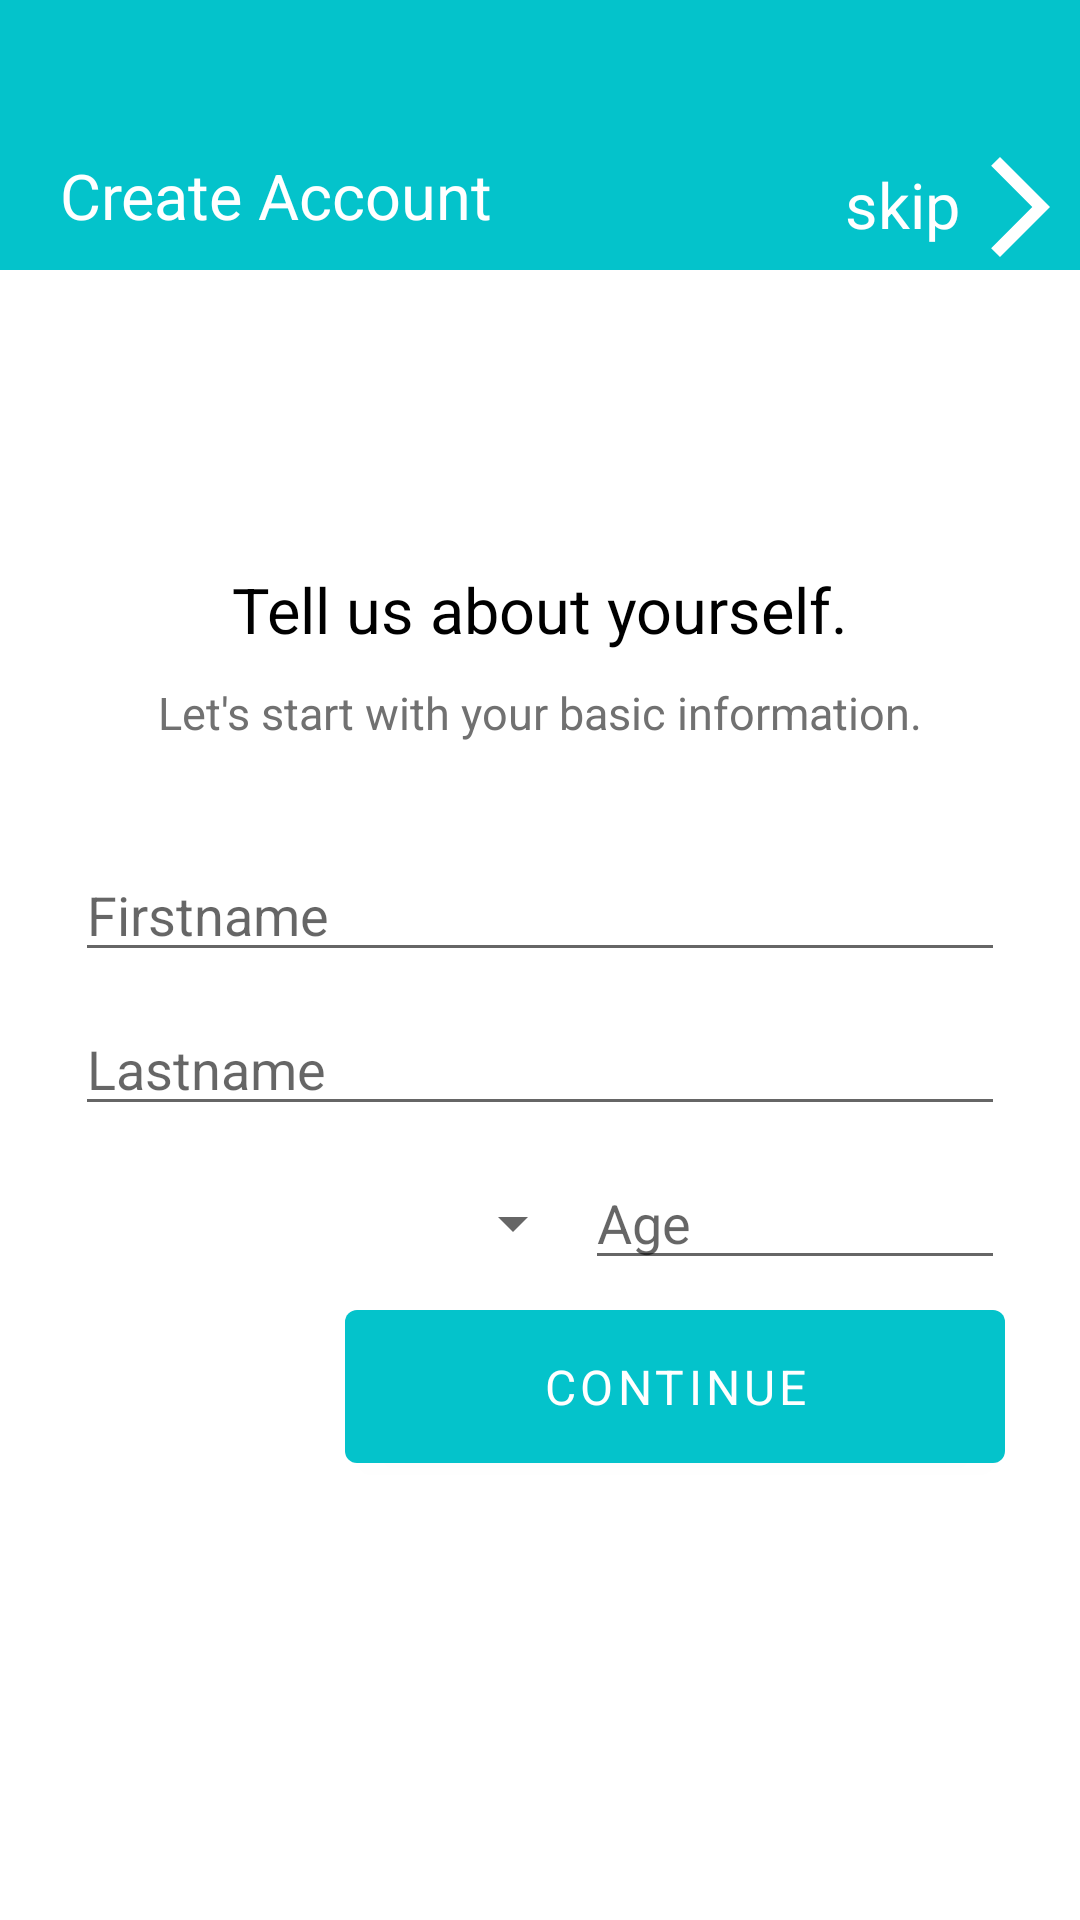

Icons on this 1080x1920 Android screen, each with its box as (x1, y1, x2, y2):
arrow forward: (991, 157, 1050, 257)
